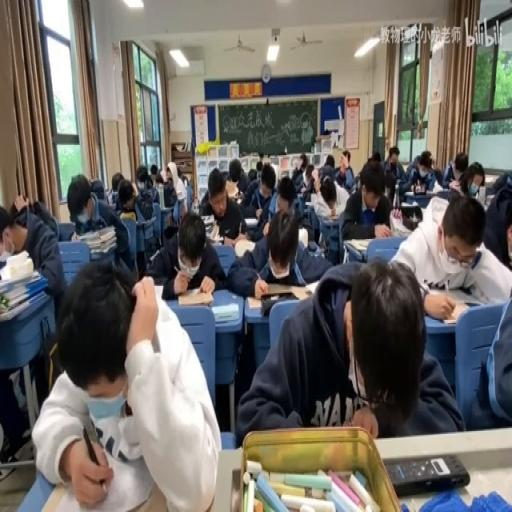calculator: (422, 288, 480, 322), (246, 286, 312, 308), (77, 223, 114, 242), (176, 288, 214, 306), (390, 214, 414, 238), (212, 302, 238, 322), (234, 236, 256, 256), (58, 219, 76, 240), (90, 244, 115, 258), (346, 238, 370, 252), (302, 278, 322, 294), (294, 192, 306, 215), (148, 282, 165, 298), (155, 182, 165, 208), (208, 222, 219, 240), (0, 250, 11, 268), (120, 209, 136, 221), (137, 215, 154, 226), (415, 186, 437, 194), (242, 214, 258, 224), (201, 213, 214, 225), (149, 248, 159, 260), (302, 198, 314, 206), (327, 212, 339, 220), (301, 188, 308, 199), (235, 196, 243, 205), (167, 215, 173, 226)
paper: (31, 258, 219, 510), (238, 255, 460, 442), (392, 190, 510, 313), (226, 202, 331, 294), (0, 195, 65, 321), (147, 206, 224, 297), (466, 279, 512, 431), (66, 174, 132, 278), (340, 158, 394, 244), (401, 148, 436, 196), (164, 161, 189, 220), (131, 168, 157, 220), (382, 145, 404, 195), (224, 158, 250, 199), (442, 149, 467, 188), (334, 149, 356, 189), (485, 170, 511, 196), (290, 154, 307, 189), (109, 170, 126, 204), (275, 189, 294, 218), (465, 162, 483, 189), (318, 164, 334, 189), (89, 176, 104, 200), (264, 160, 278, 184), (322, 190, 335, 210), (432, 166, 444, 185), (304, 166, 314, 185), (368, 150, 381, 164), (154, 170, 166, 184), (247, 168, 258, 182), (324, 154, 334, 169), (149, 164, 158, 179), (256, 161, 262, 175), (146, 175, 152, 189), (182, 176, 188, 188), (300, 160, 306, 170), (429, 155, 434, 165)
person: (386, 452, 470, 494)
